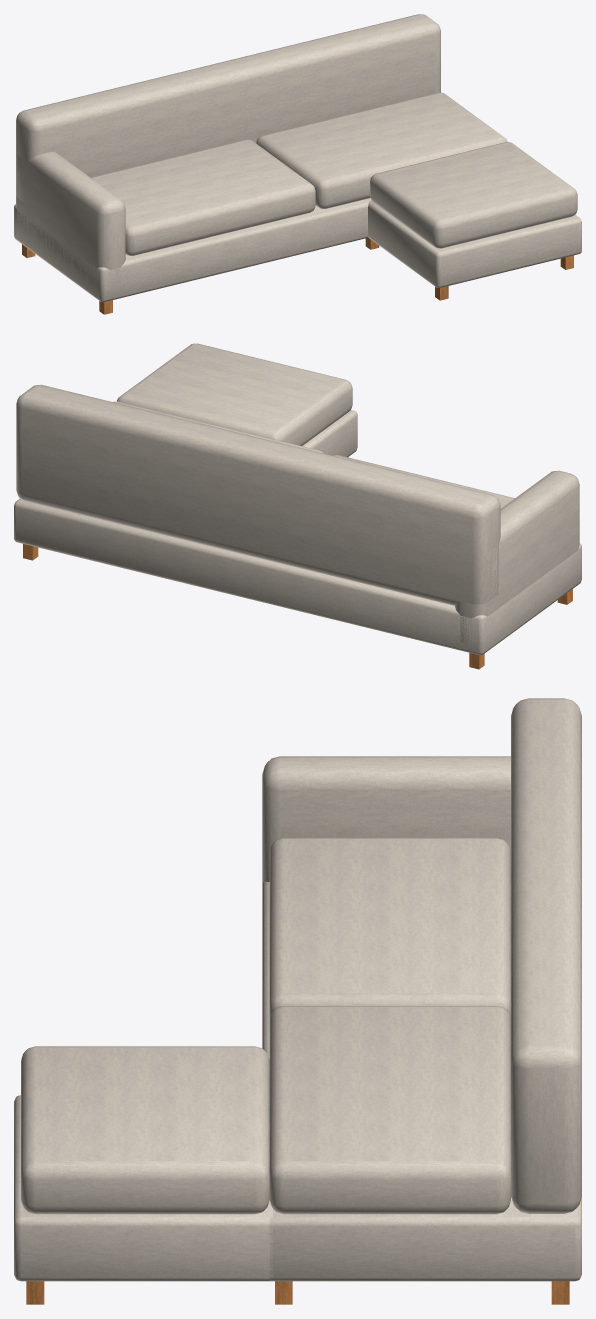
File: lounge.l-shaped-sofa-right.glb
3 views of the same model, one above another, from view 1: azimuth 30°, elevation 25°; view 2: azimuth 150°, elevation 25°; view 3: azimuth 270°, elevation 25° (orthographic). The views are drawn at different scales.
Visible parts, largest first — view 1: lounge.l-shaped-sofa-right.001; view 2: lounge.l-shaped-sofa-right.001; view 3: lounge.l-shaped-sofa-right.001.
Part boxes in pixels (x1=…): lounge.l-shaped-sofa-right.001: x1=14, y1=14, x2=581, y2=314; lounge.l-shaped-sofa-right.001: x1=14, y1=343, x2=581, y2=669; lounge.l-shaped-sofa-right.001: x1=14, y1=698, x2=581, y2=1304.
Size of the model in its own units: 2.4 by 0.8 by 1.6.
Materials: 2 (2 with a texture image).
